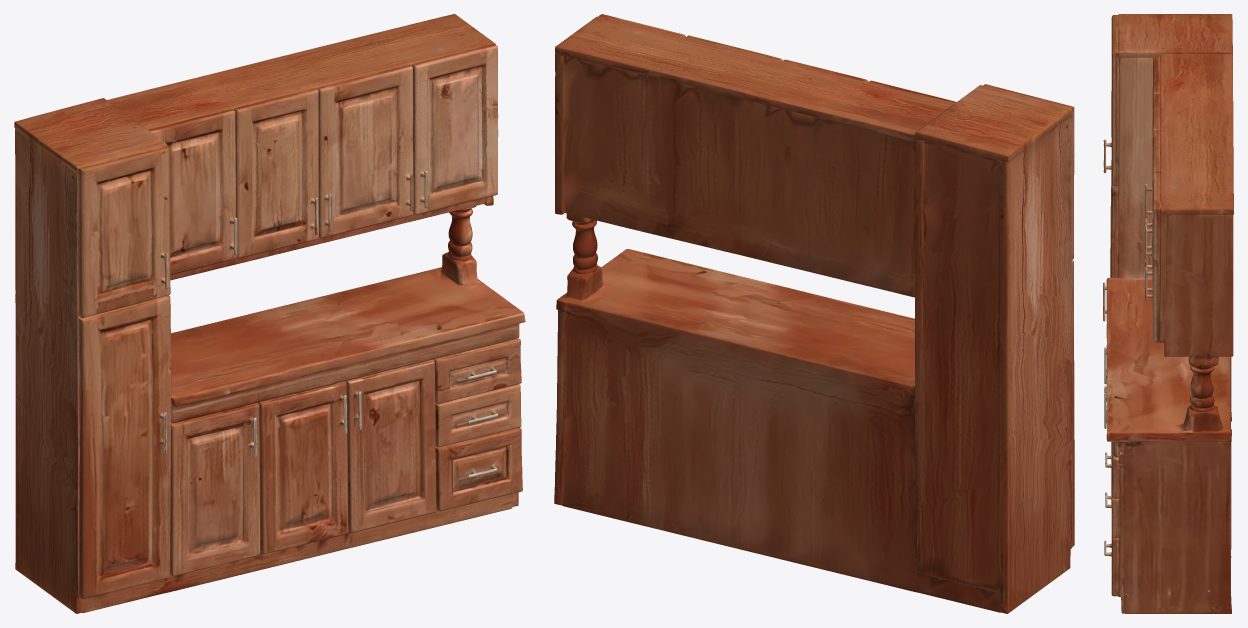
File: kitchen.glb
3 renders of one model, left to right at view 1: azimuth 30°, elevation 25°; view 2: azimuth 150°, elevation 25°; view 3: azimuth 270°, elevation 25°, orthographic. The views are drawn at different scales.
Parts seen in each view (by area): view 1: model; view 2: model; view 3: model.
Boxes of the visible parts, x1,y1,x2,y2 form: model: (14,14,525,613); model: (554,14,1074,613); model: (1103,14,1233,613).
Bounding box in the file's own units: 1.9 × 1.85 × 0.5382.
1 material, 1 textured.
